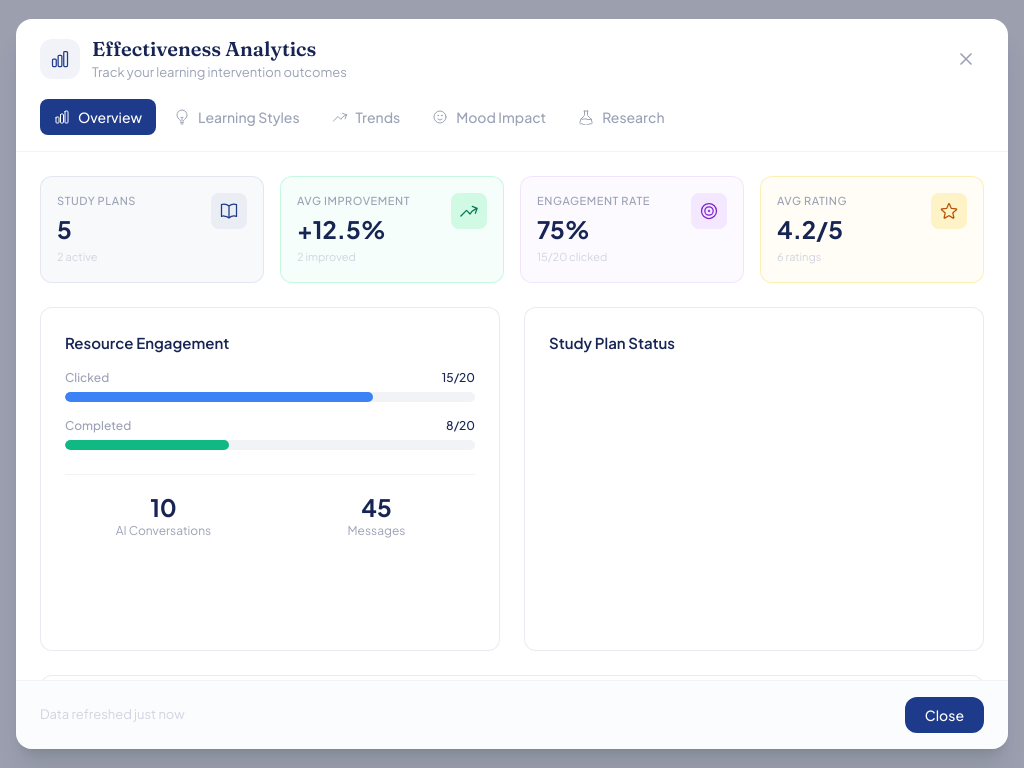
EffectivenessAnalytics › switches to Mood Impact tab and shows mood data
The image size is (1024, 768).
Click the button "Mood Impact".
click(489, 117)  # box 418,99 -> 560,135
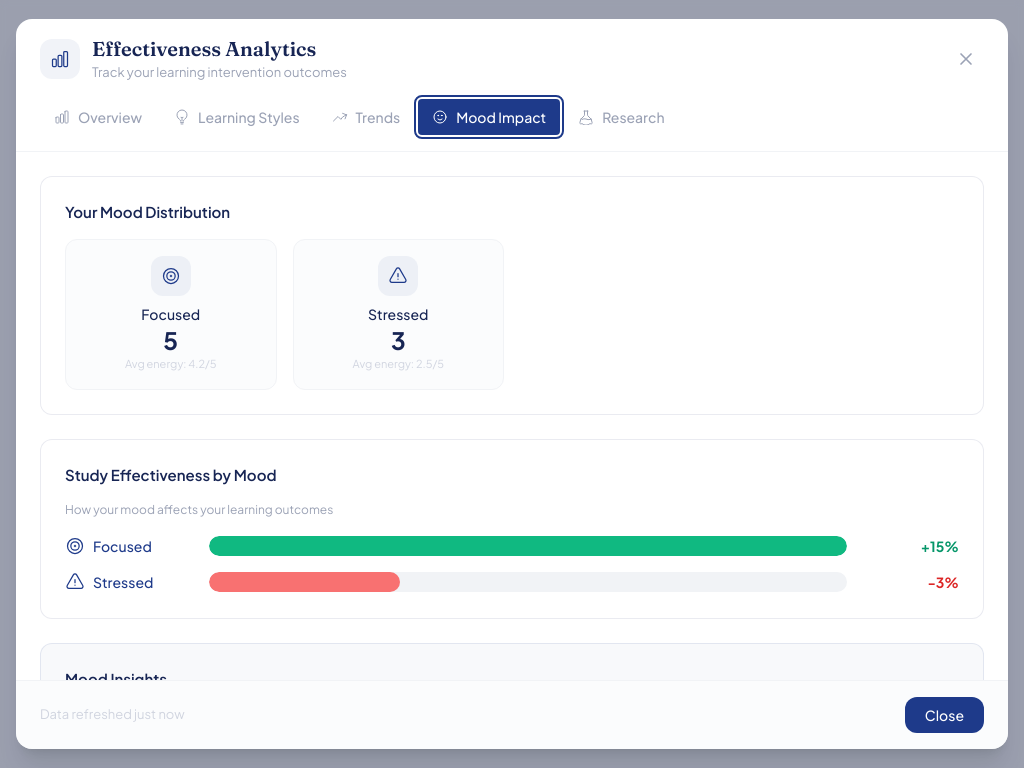
expect the heading "Your Mood Distribution" is shown: met, box 65,202 -> 230,221
expect the heading "Study Effectiveness by Mood" is shown: met, box 65,465 -> 276,484
